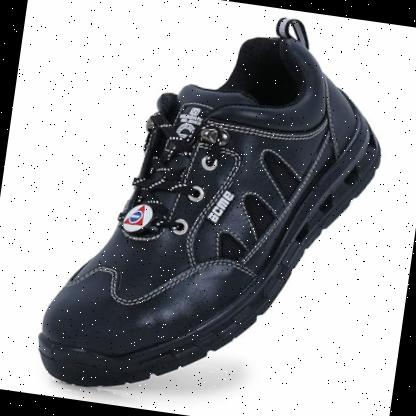bota: (27, 0, 402, 416)
